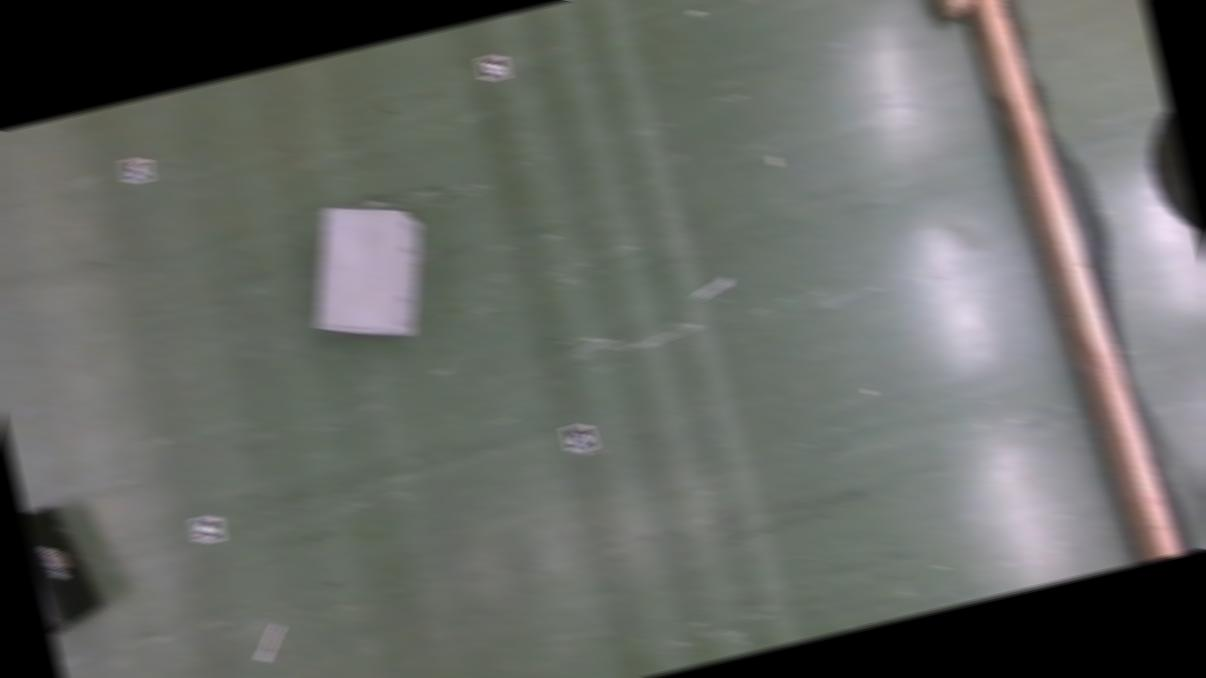probes: (252, 624, 289, 662), (692, 276, 734, 299)
rako: (290, 192, 444, 356), (22, 500, 108, 644)
